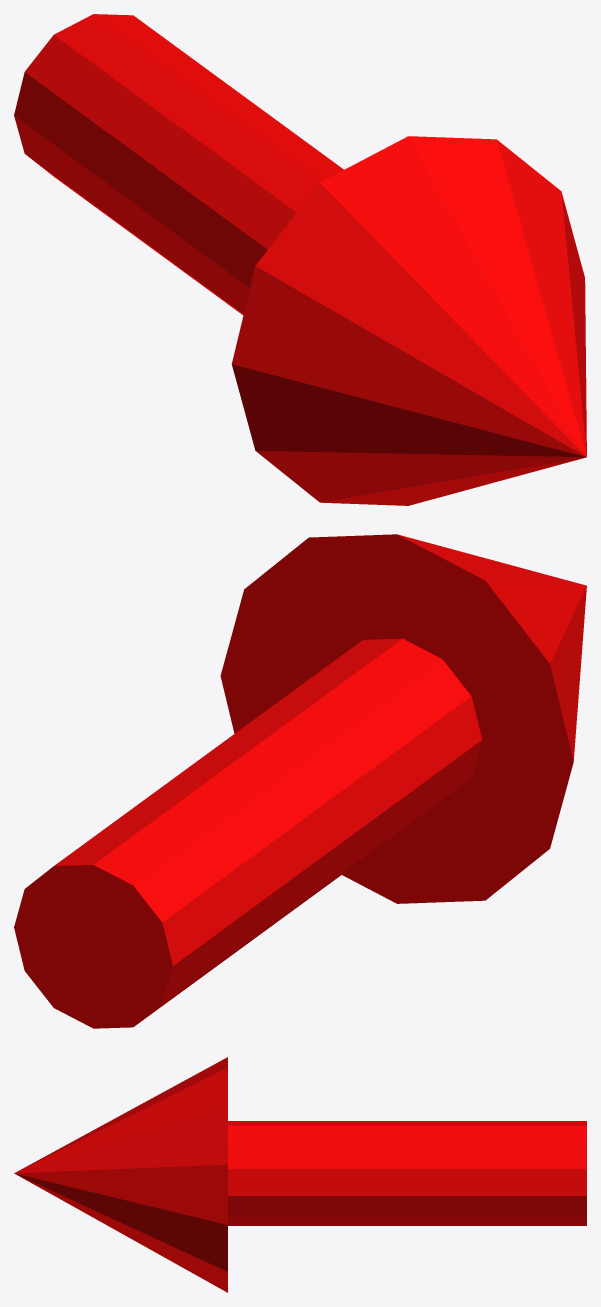
Rendered from Arrow.fbx.
3 renders of one model, top to bottom at view 1: azimuth 30°, elevation 25°; view 2: azimuth 150°, elevation 25°; view 3: azimuth 270°, elevation 25°, orthographic. The views are drawn at different scales.
Visible parts, largest first — view 1: Mesh01; view 2: Mesh01; view 3: Mesh01.
Boxes of the visible parts, left/top/right/bottom form: Mesh01: left=14, top=14, right=586, bottom=505; Mesh01: left=14, top=534, right=586, bottom=1028; Mesh01: left=14, top=1057, right=586, bottom=1292.
Size of the model in its own units: 0.775 by 0.775 by 1.88.
